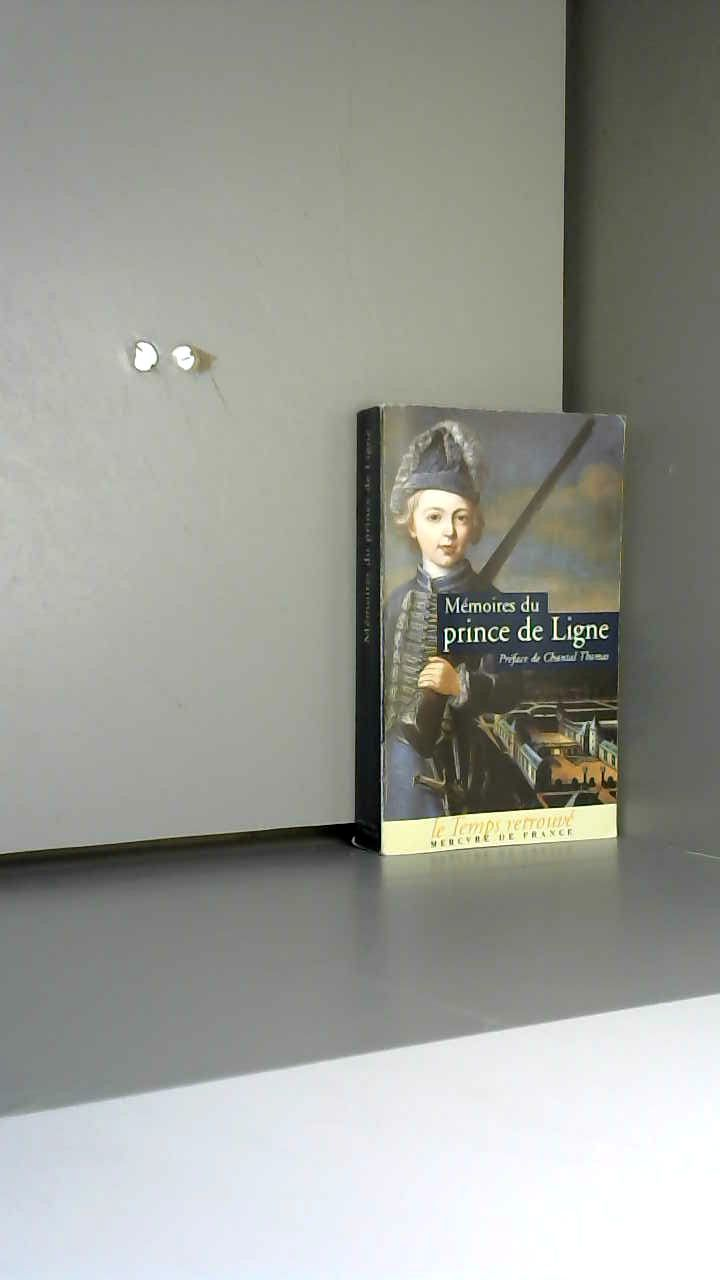book: (337, 385, 646, 876)
